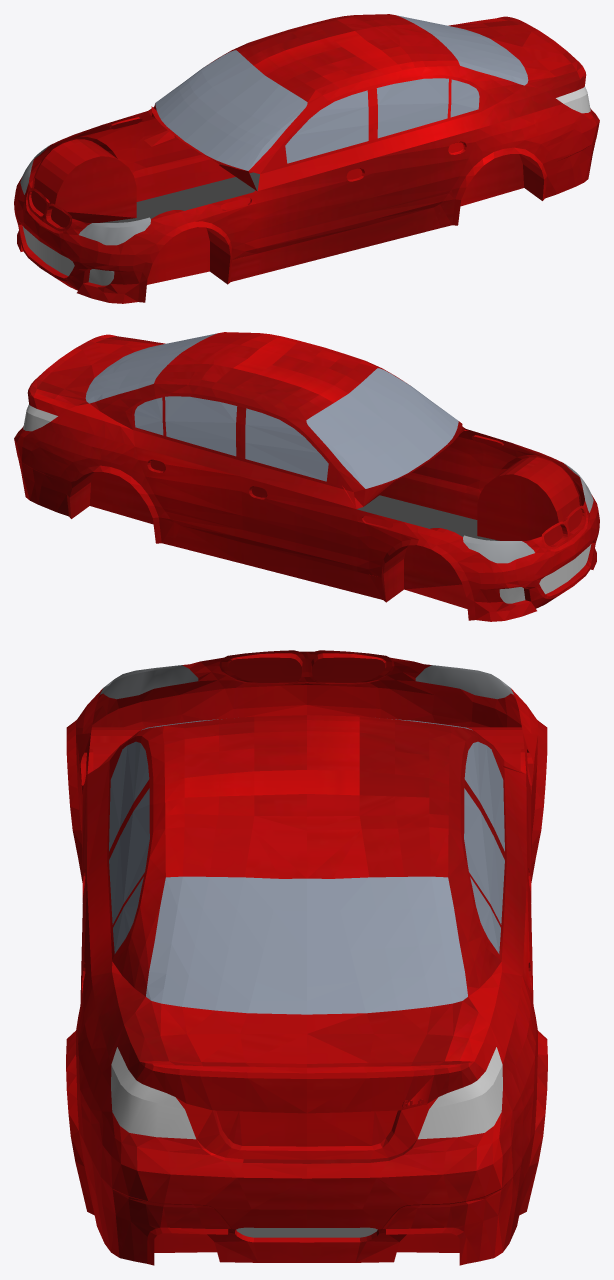
The model's file is carro_chasis.fbx.
3 renders of one model, top to bottom at view 1: azimuth 30°, elevation 25°; view 2: azimuth 150°, elevation 25°; view 3: azimuth 270°, elevation 25°, orthographic. The views are drawn at different scales.
Visible parts, largest first — view 1: Group1, Cristales, Parte_baja, Faros, Detalles; view 2: Group1, Cristales, Parte_baja, Faros, Detalles; view 3: Group1, Cristales, Faros, Detalles.
Boxes of the visible parts, x1,y1,x2,y2 form: Group1: [14, 14, 599, 303]; Cristales: [155, 15, 528, 170]; Parte_baja: [100, 172, 259, 222]; Faros: [20, 86, 590, 245]; Detalles: [22, 226, 114, 285]; Group1: [14, 332, 599, 621]; Cristales: [85, 333, 458, 488]; Parte_baja: [357, 495, 499, 540]; Faros: [23, 404, 593, 563]; Detalles: [499, 544, 591, 603]; Group1: [66, 650, 547, 1265]; Cristales: [109, 719, 504, 1014]; Faros: [100, 665, 513, 1139]; Detalles: [236, 1227, 377, 1237].
Size of the model in its own units: 212 by 60.16 by 83.83.
